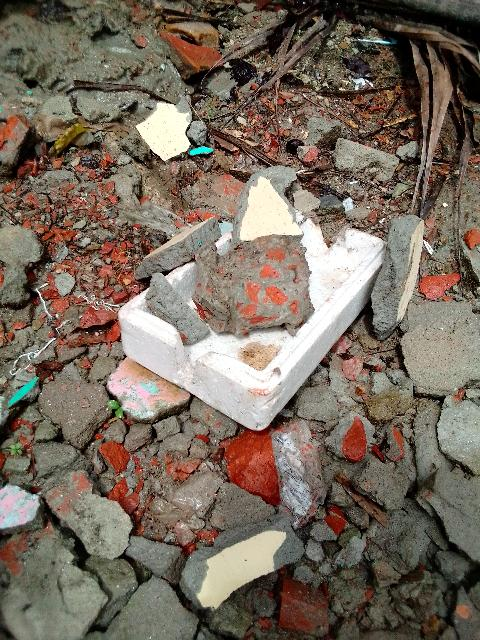cocksheet: (119, 179, 401, 445)
